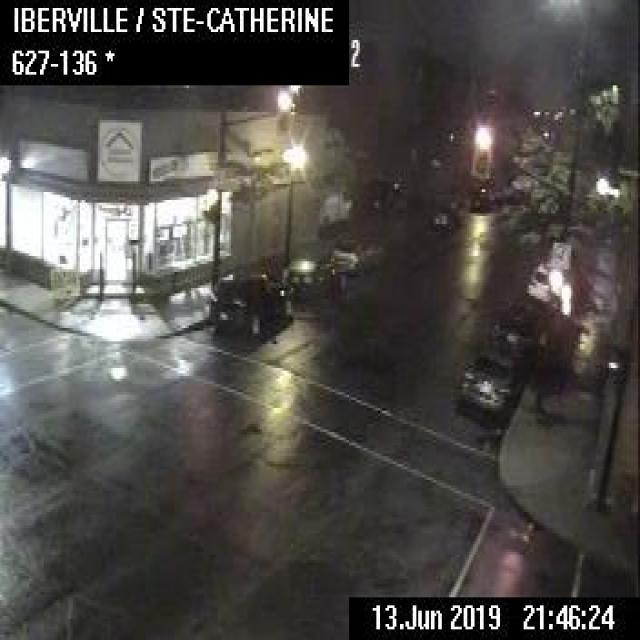vehicle: (211, 271, 293, 339), (454, 346, 524, 416), (490, 296, 550, 358), (280, 256, 342, 304), (330, 232, 384, 277), (318, 186, 351, 227), (464, 180, 492, 211), (429, 203, 458, 229)
